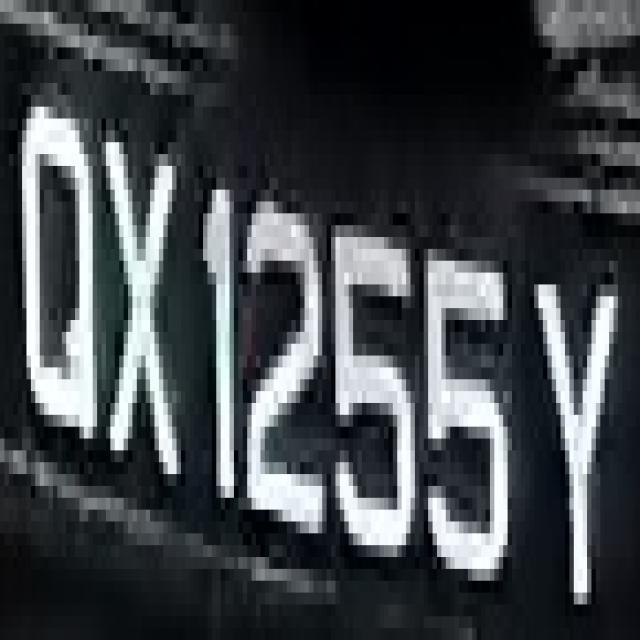1: (190, 142, 238, 557)
2: (234, 142, 322, 569)
5: (415, 178, 512, 581), (322, 190, 415, 580)
Q: (13, 59, 106, 474)
X: (97, 59, 185, 545)
Y: (516, 190, 622, 616)
